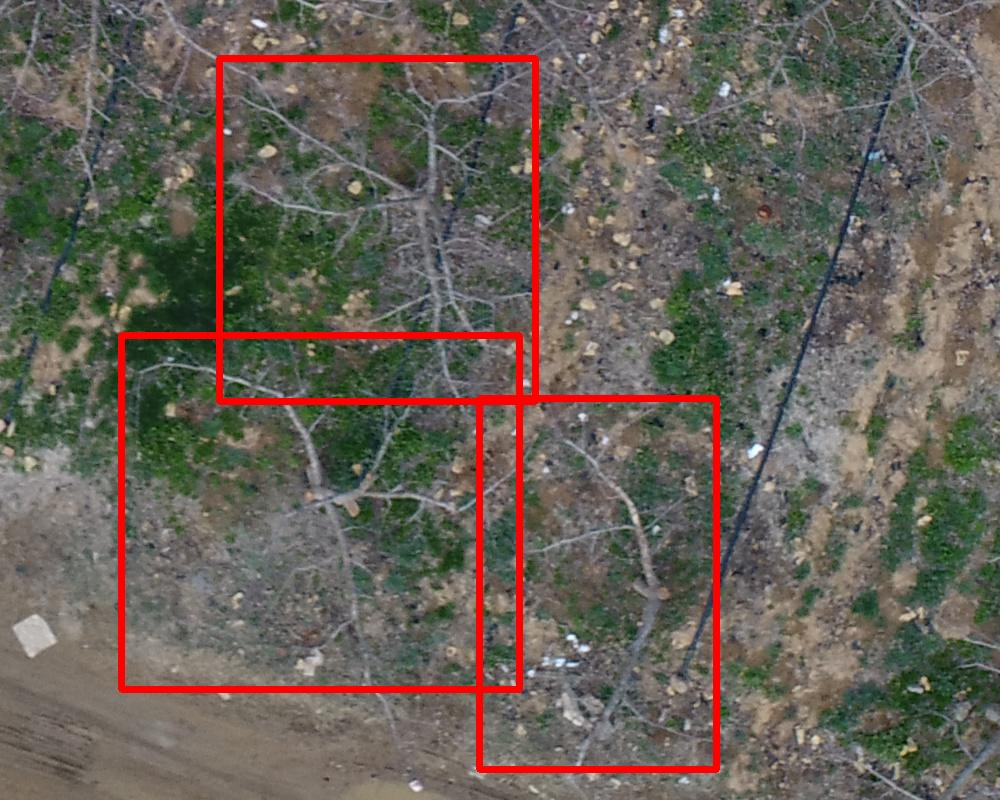apple: (121, 335, 519, 689), (219, 58, 535, 401), (479, 398, 716, 769)
